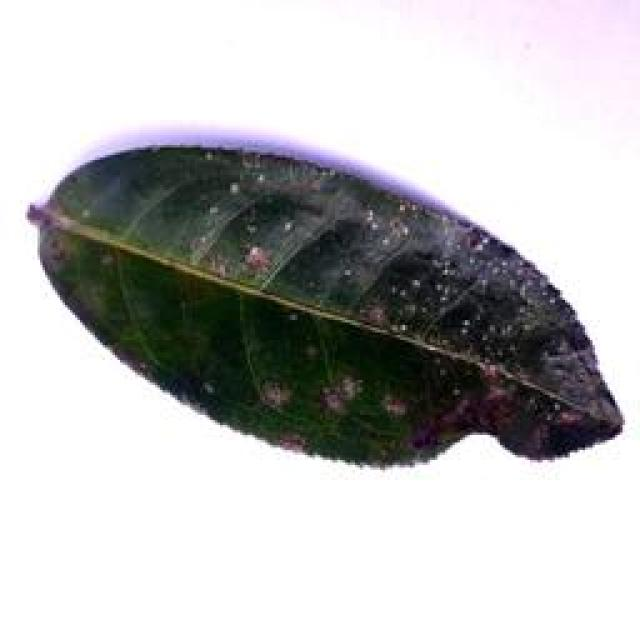Algal Leaf Spot: (14, 132, 630, 490)
